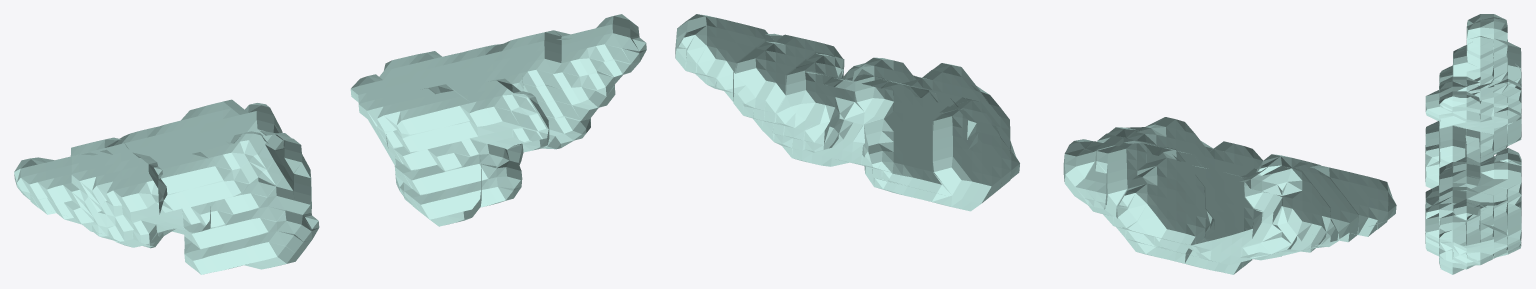
File: VFB_00102214.glb
3 views of the same model, side by side, from view 1: azimuth 30°, elevation 25°; view 2: azimuth 150°, elevation 25°; view 3: azimuth 270°, elevation 25° (orthographic). The views are drawn at different scales.
Visible parts, largest first — view 1: VFB_00102214; view 2: VFB_00102214; view 3: VFB_00102214.
Boxes of the visible parts, bbox=[...] form: VFB_00102214: bbox=[14, 14, 646, 274]; VFB_00102214: bbox=[675, 14, 1396, 274]; VFB_00102214: bbox=[1425, 14, 1521, 274].
Bounding box in the file's own units: 0.153 × 0.0311 × 0.0275.
